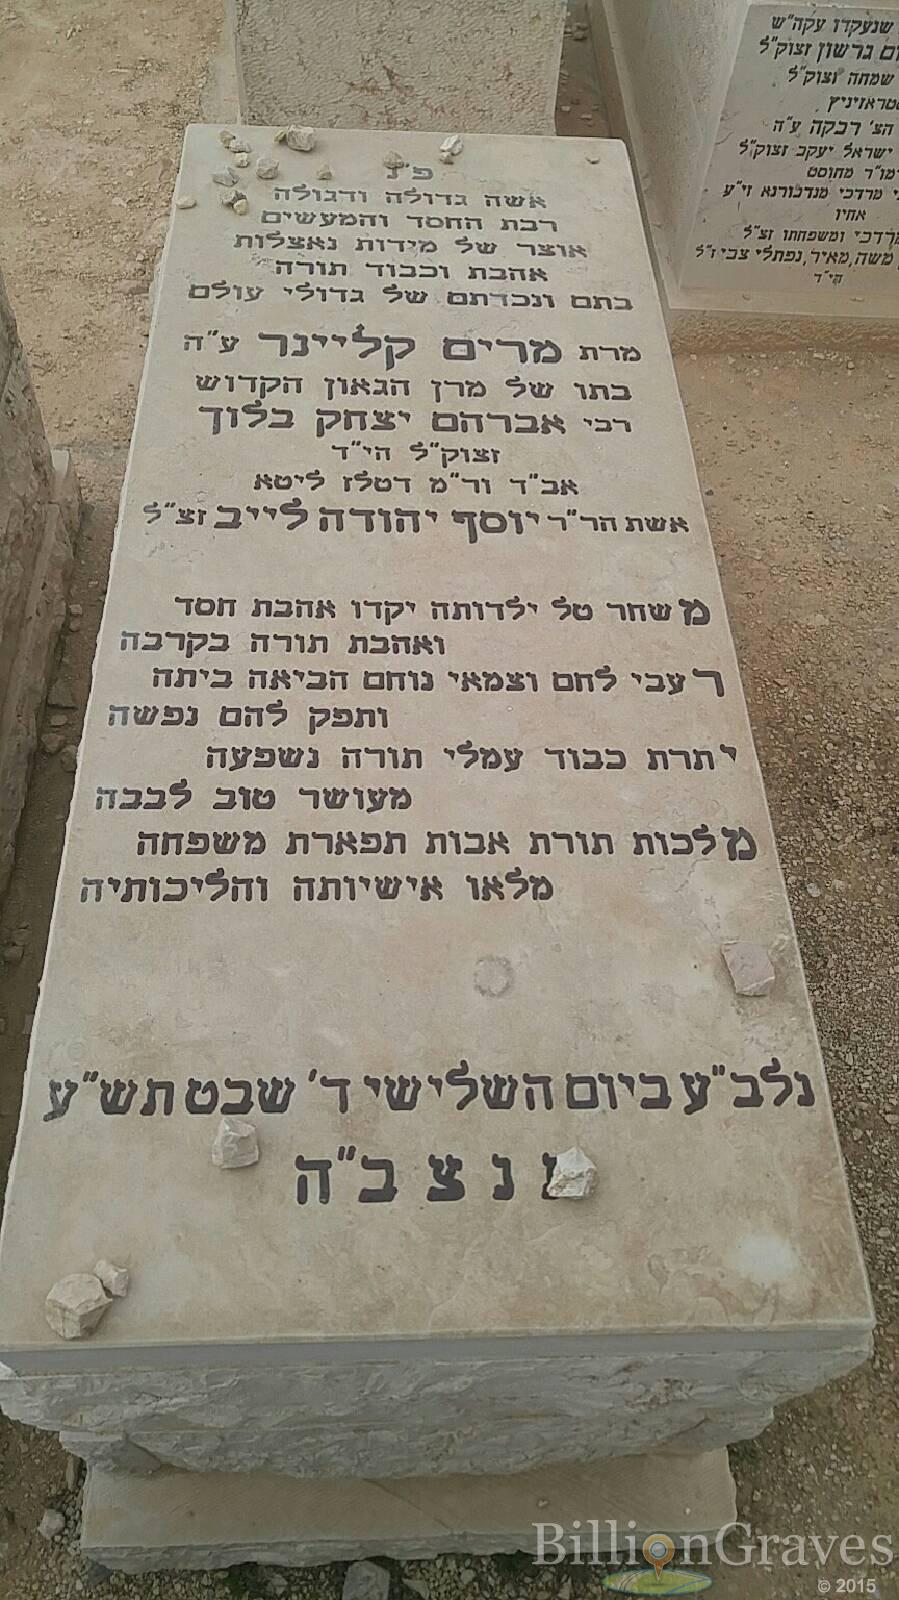vault: (12, 12, 890, 1513)
